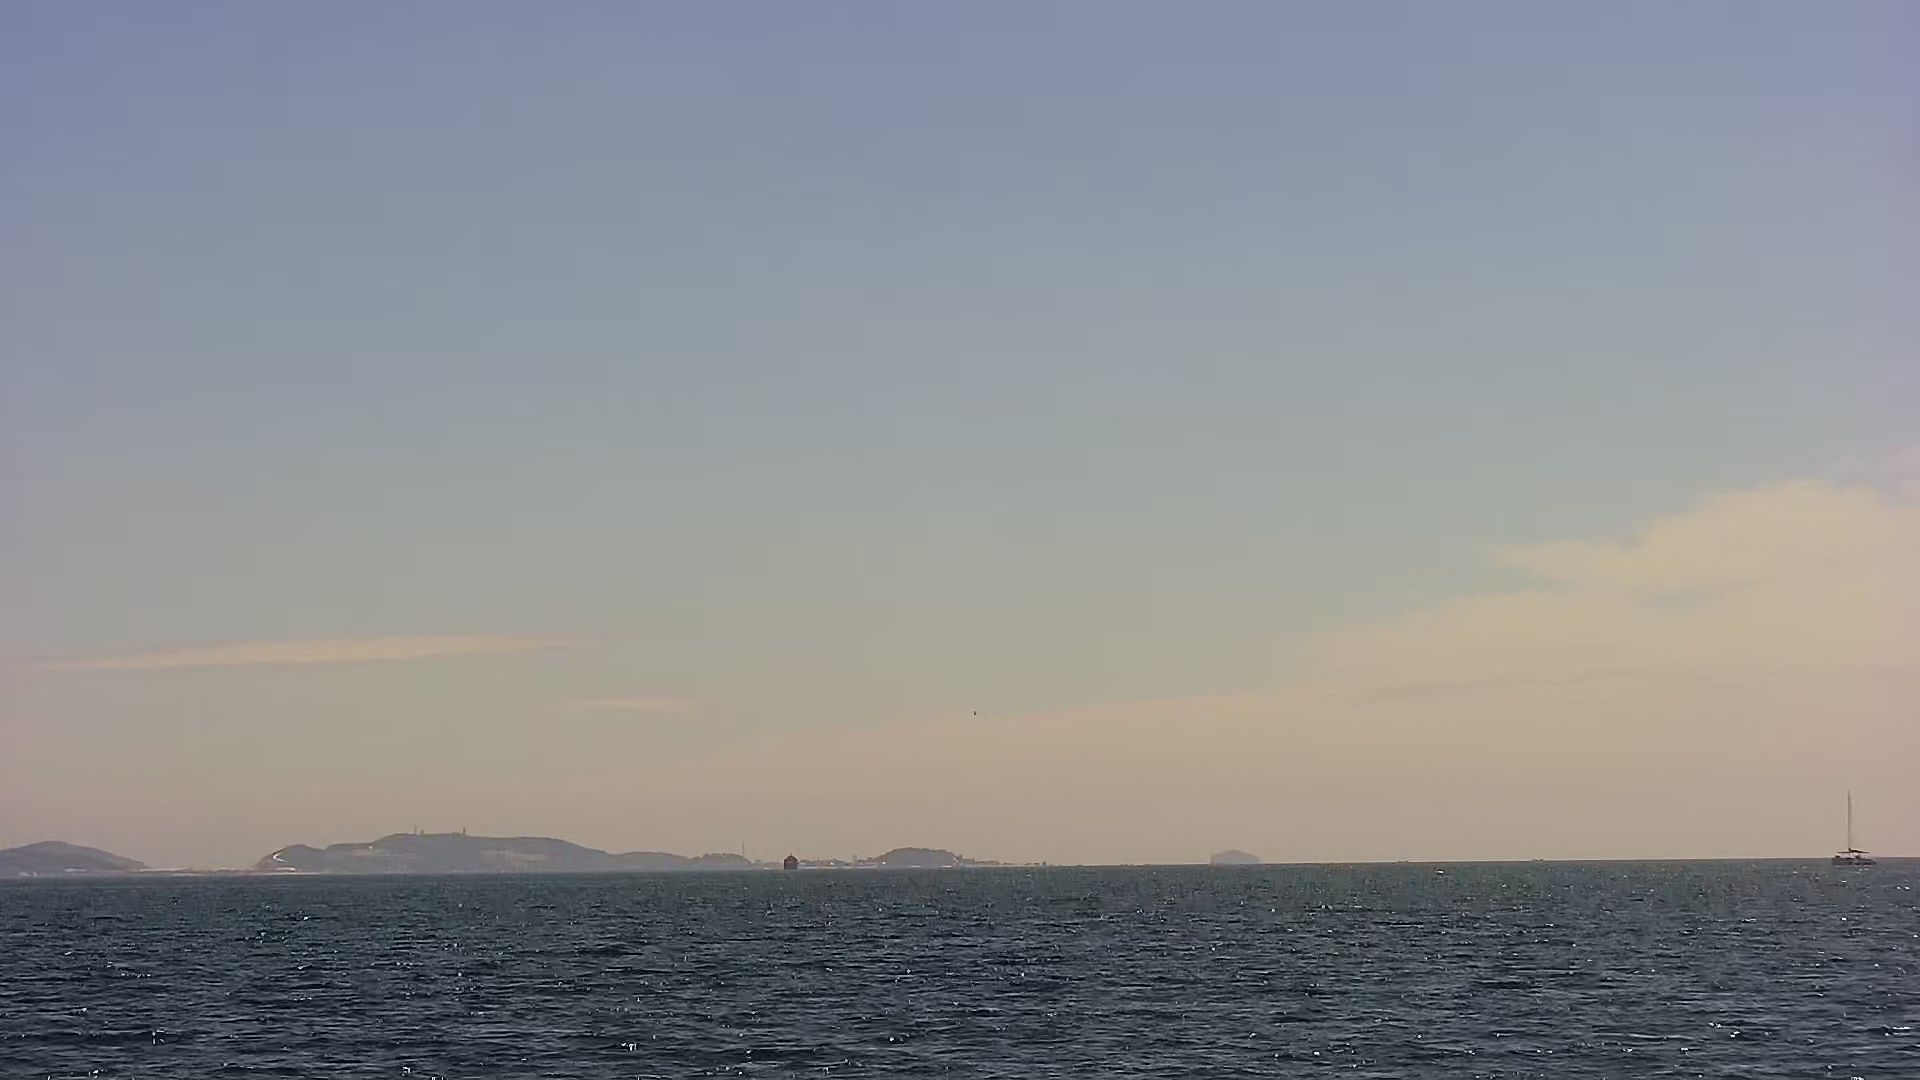boat: (1824, 793, 1880, 873)
rock: (244, 825, 1087, 876), (1, 837, 177, 889), (1209, 841, 1276, 869)
